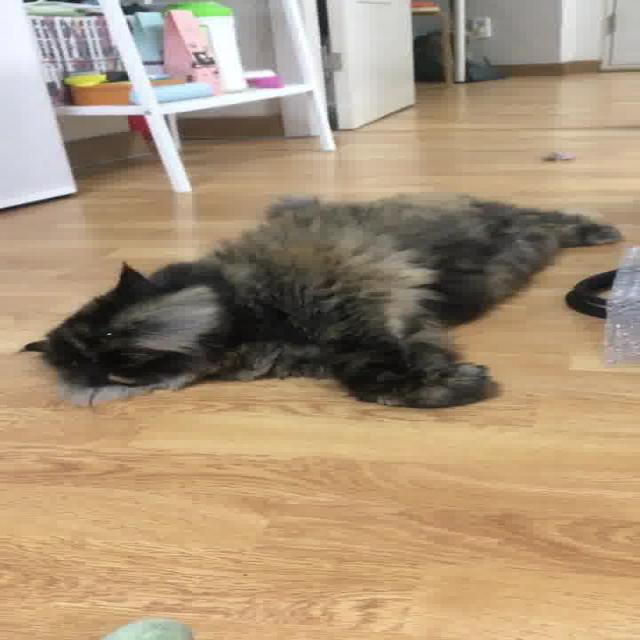cat: (2, 184, 636, 426)
